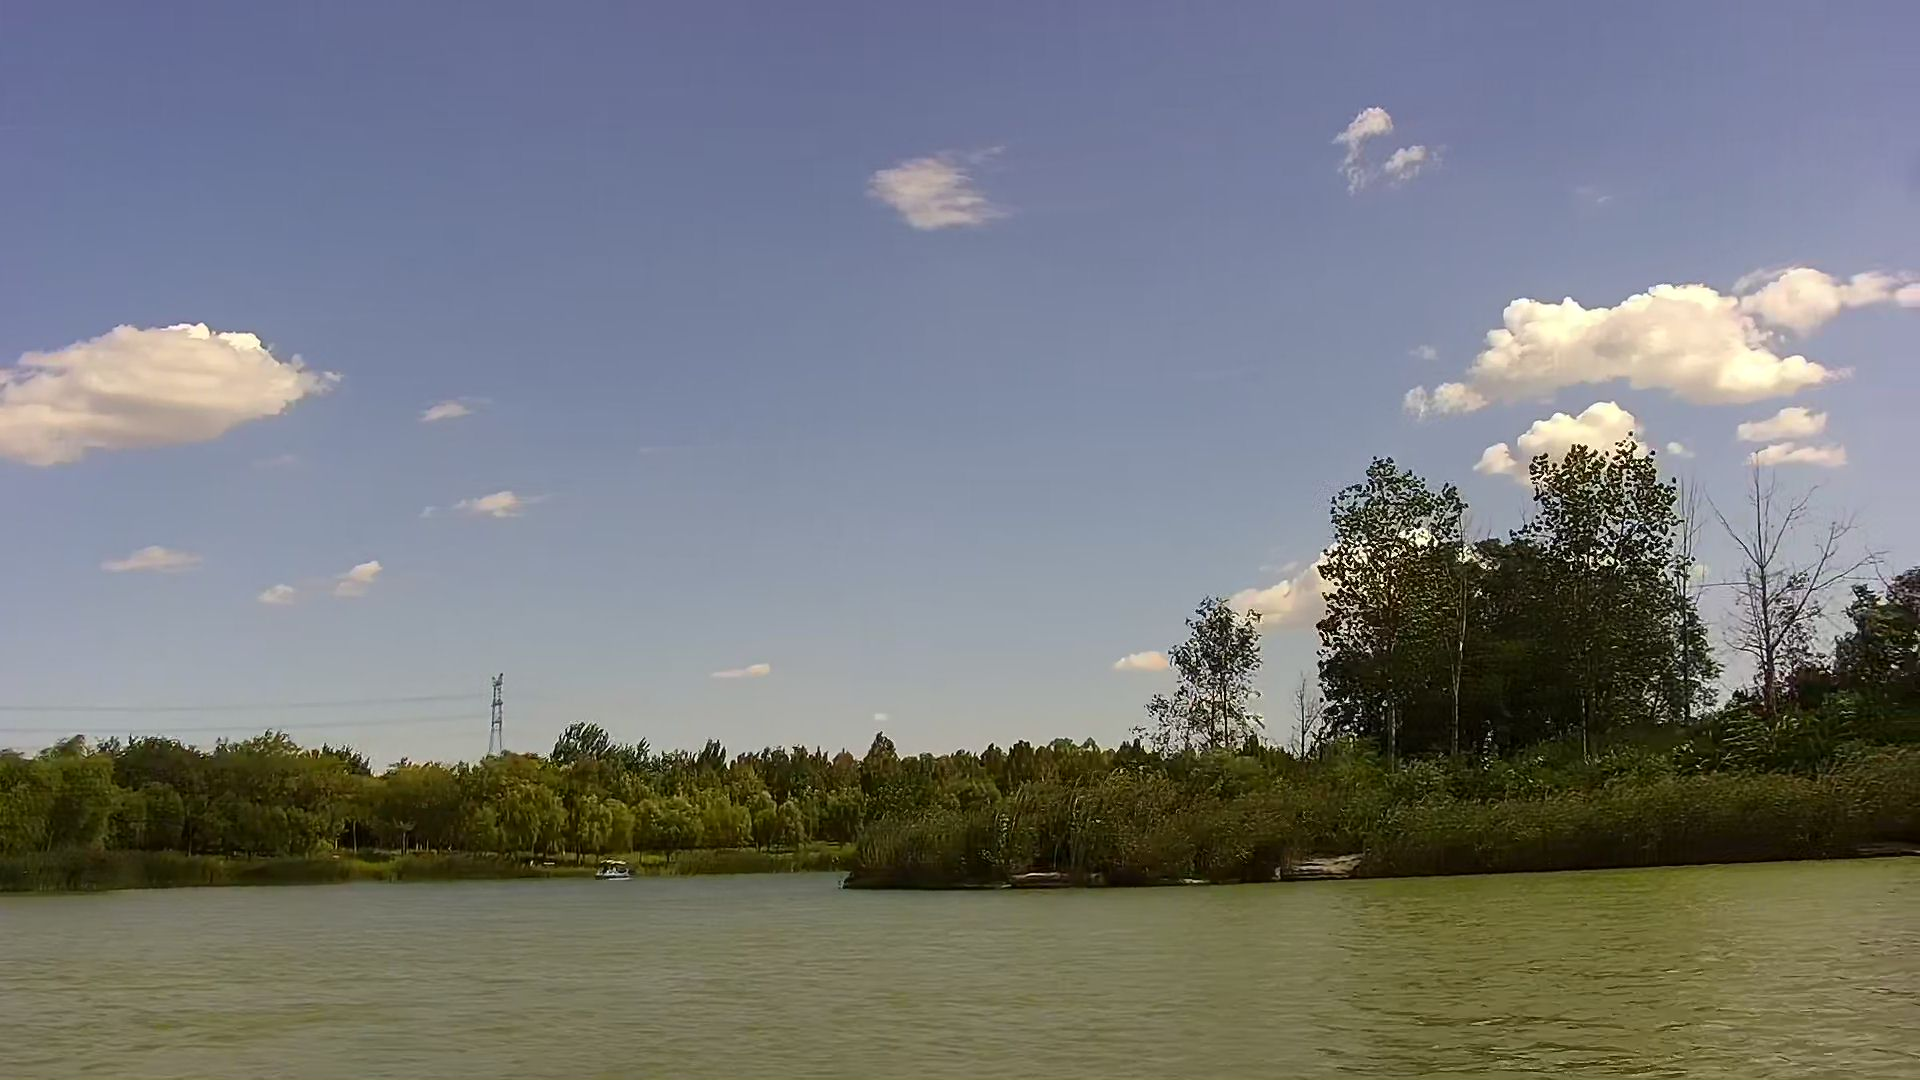boat: (592, 861, 621, 877)
rock: (1279, 851, 1356, 885), (1005, 866, 1091, 887)
